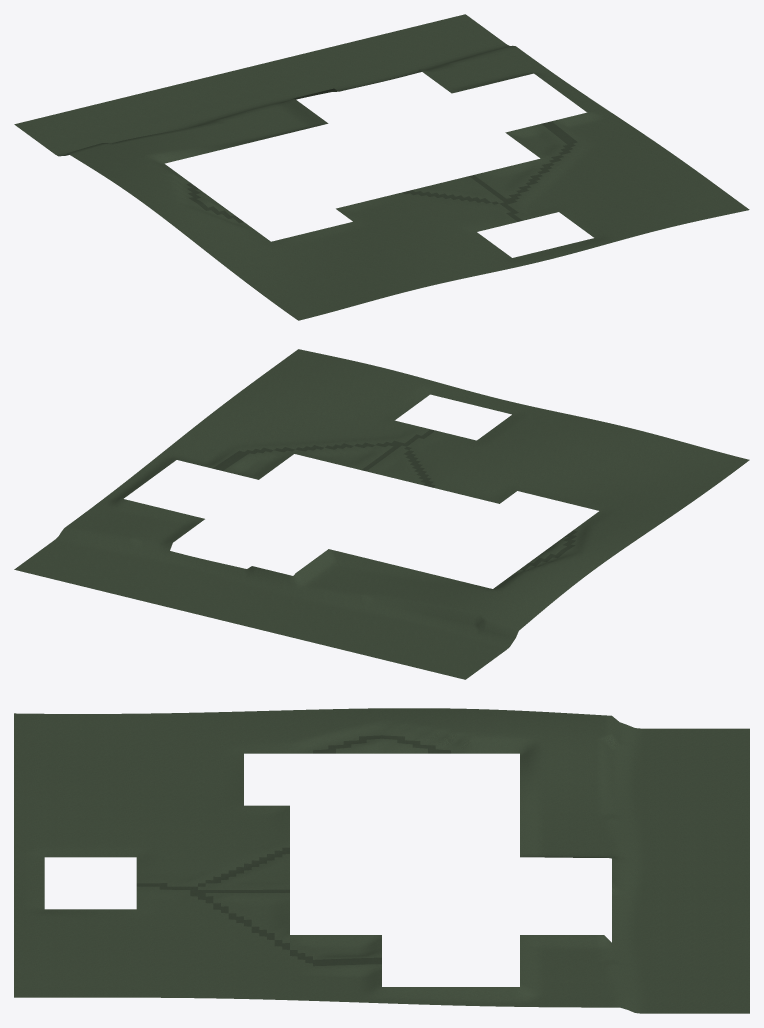
File: level_site_wld_13_terrain.glb
3 renders of one model, top to bottom at view 1: azimuth 30°, elevation 25°; view 2: azimuth 150°, elevation 25°; view 3: azimuth 270°, elevation 25°, orthographic. The views are drawn at different scales.
Visible parts, largest first — view 1: level_site_wld_13_terrain; view 2: level_site_wld_13_terrain; view 3: level_site_wld_13_terrain.
Boxes of the visible parts, x1,y1,x2,y2 form: level_site_wld_13_terrain: [14, 14, 749, 320]; level_site_wld_13_terrain: [14, 349, 749, 679]; level_site_wld_13_terrain: [14, 708, 749, 1013].
Size of the model in its own units: 88 by 3.37 by 96.
Materials: 2 (2 with a texture image).
